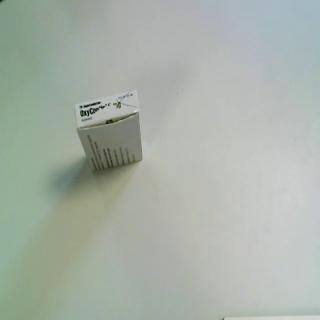oxycontin5mg: (71, 87, 147, 175)
